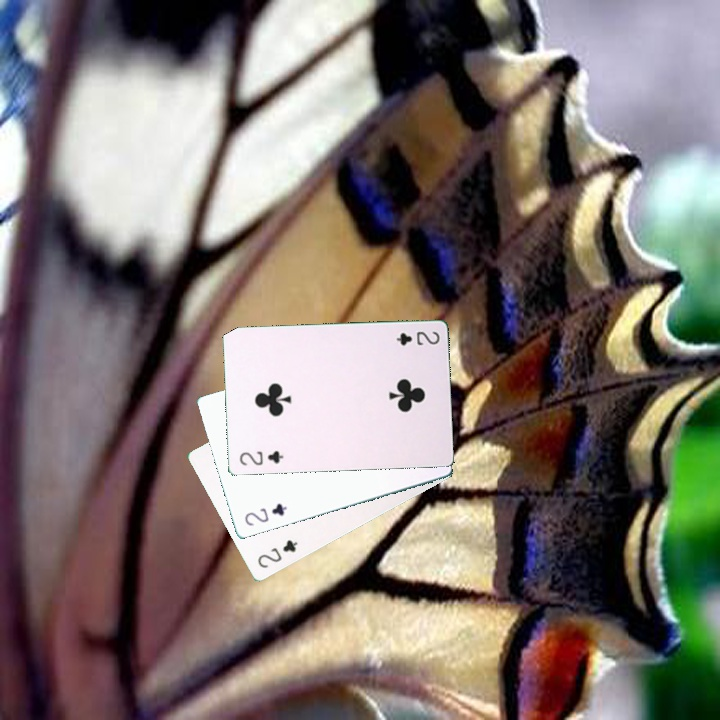2c: (253, 536, 300, 571), (241, 499, 289, 528), (236, 447, 286, 468), (392, 327, 442, 348)
